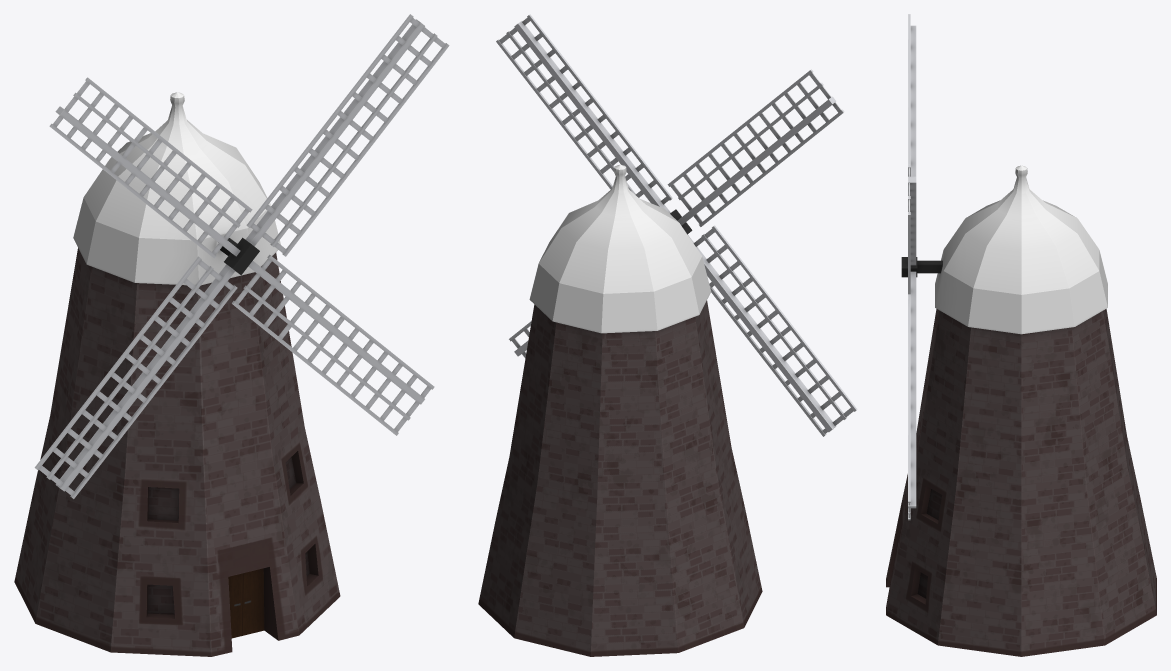
Rendered from Windmill.glb.
3 views of the same model, side by side, from view 1: azimuth 30°, elevation 25°; view 2: azimuth 150°, elevation 25°; view 3: azimuth 270°, elevation 25° (orthographic). The views are drawn at different scales.
Visible parts, largest first — view 1: Windmill_Body, Windmill_Blades; view 2: Windmill_Body, Windmill_Blades; view 3: Windmill_Body, Windmill_Blades.
Part boxes in pixels (x1=…): Windmill_Body: x1=14, y1=92, x2=340, y2=656; Windmill_Blades: x1=34, y1=14, x2=449, y2=498; Windmill_Body: x1=478, y1=164, x2=762, y2=656; Windmill_Blades: x1=496, y1=14, x2=857, y2=436; Windmill_Body: x1=886, y1=165, x2=1156, y2=656; Windmill_Blades: x1=901, y1=14, x2=942, y2=520.
Bounding box in the file's own units: 5.92 × 8.16 × 3.87.
1 material, 1 textured.
